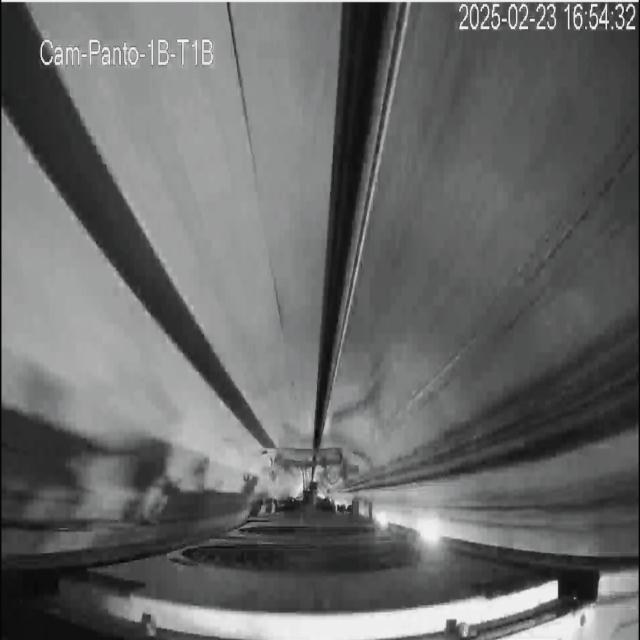Camera Stamp: (37, 29, 221, 71)
Date Stamp: (457, 3, 636, 33)
No - Spark: (189, 424, 341, 520), (264, 351, 333, 465), (415, 511, 447, 549)
